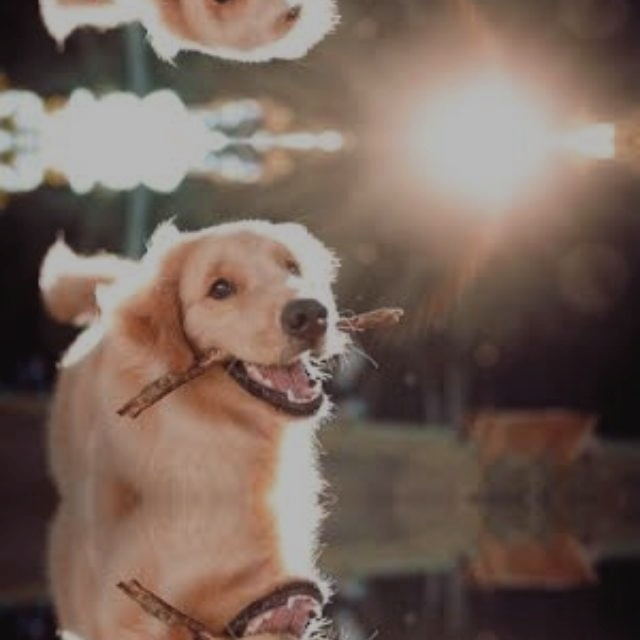dog: (151, 211, 351, 427), (151, 570, 351, 640), (151, 0, 351, 68)
